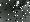person: (23, 1, 30, 17), (15, 3, 22, 14)
